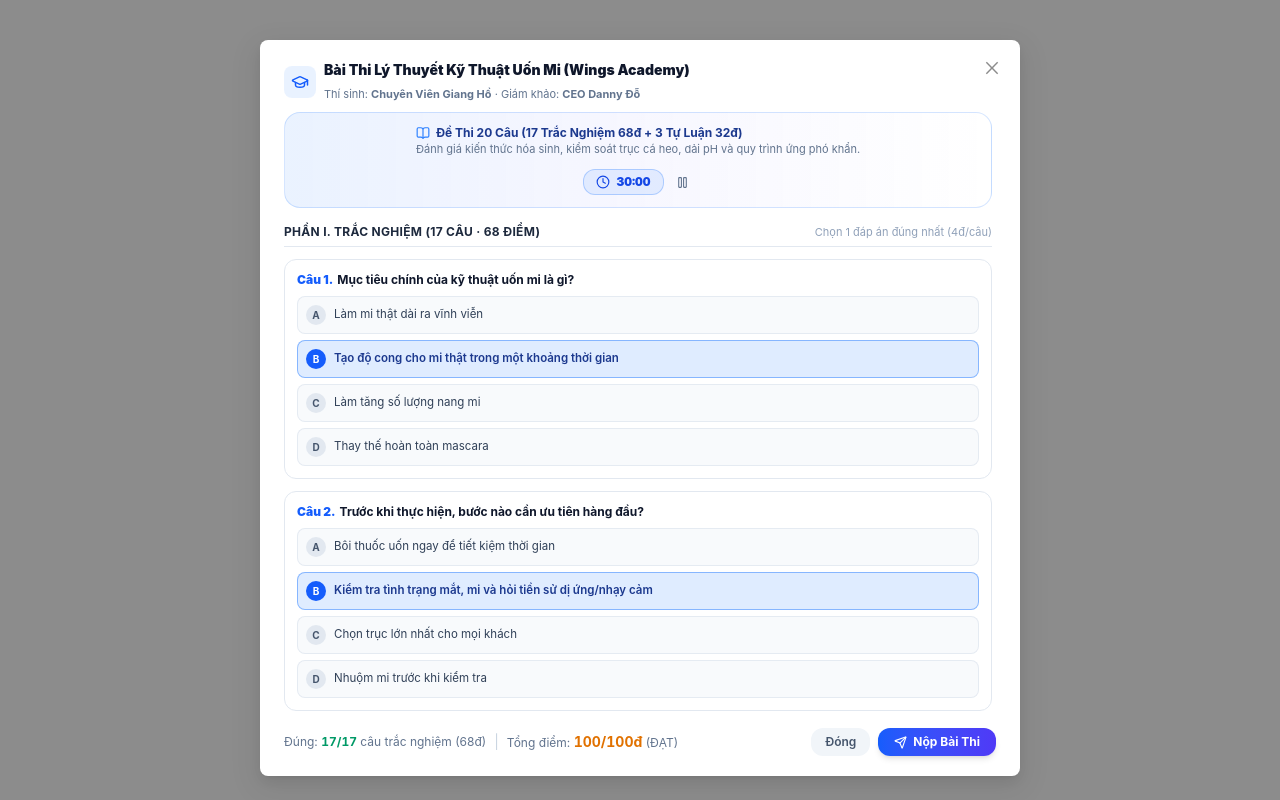
Test: LashLiftTheoryExamModal › allows candidate to answer questions and submit exam to calculate score
This screenshot has width=1280, height=800.
(page scrolled)
Click submit button
Click the button with test id "btn-submit-theory-exam" at (937, 742), box [878,728,996,756]
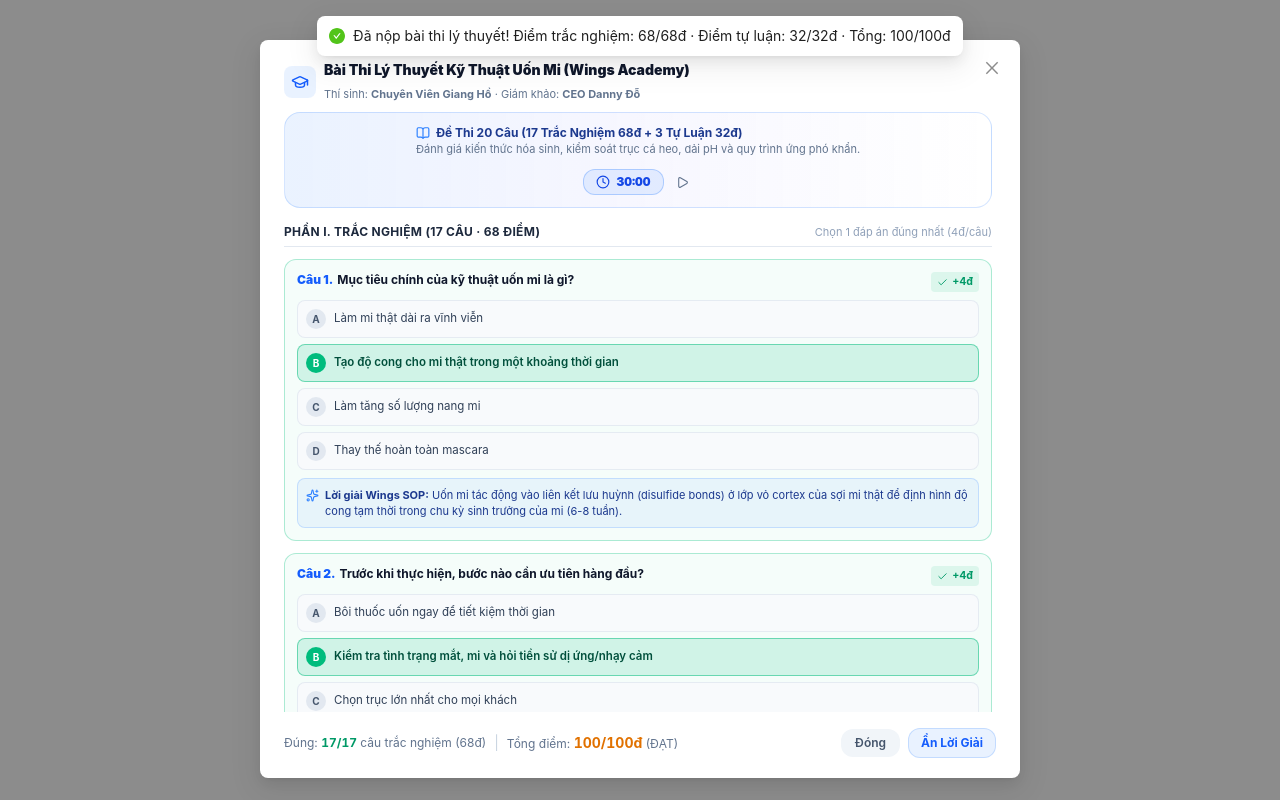
Result: the button "Ẩn Lời Giải" is shown at [908,728,996,758]
